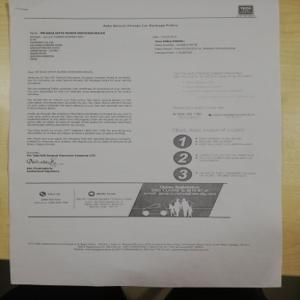text: (25, 66, 135, 150), (29, 29, 108, 63), (150, 34, 236, 56)
